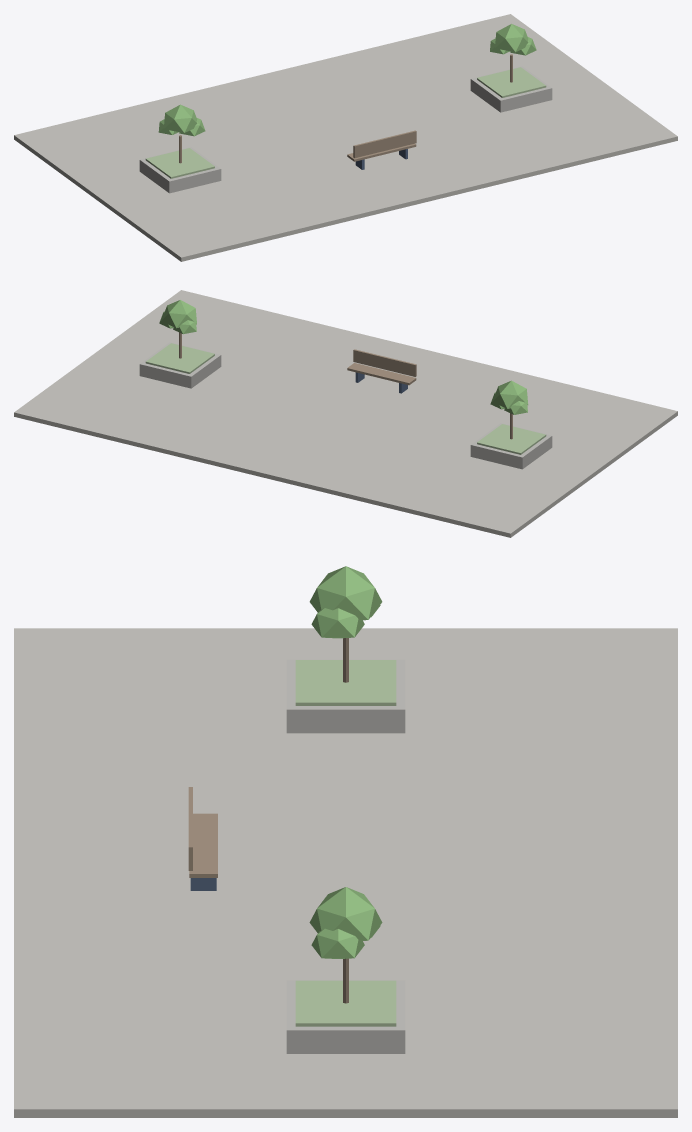
The model's file is 18_roads_plazas-05.glb.
3 renders of one model, top to bottom at view 1: azimuth 30°, elevation 25°; view 2: azimuth 150°, elevation 25°; view 3: azimuth 270°, elevation 25°, orthographic. The views are drawn at different scales.
Bounding box in the file's own units: 24 × 3.51 × 14.
